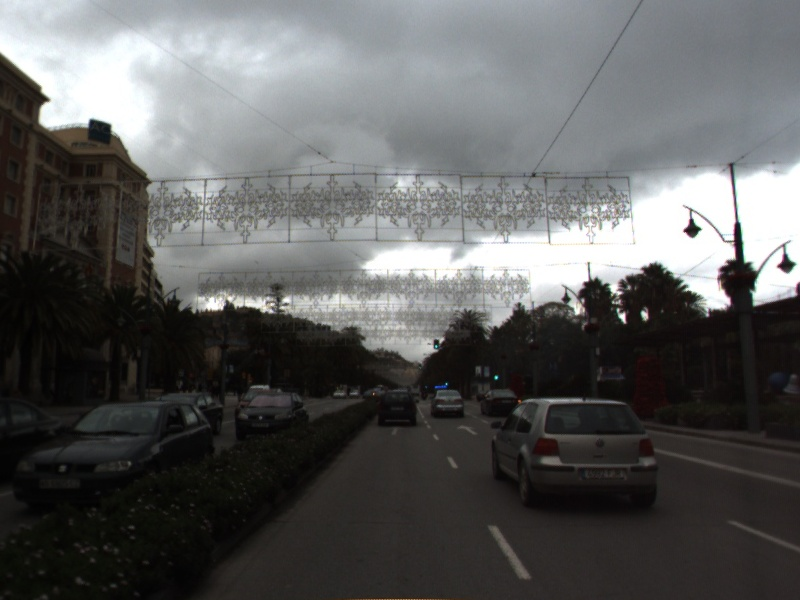STRAIGHT: (454, 422, 480, 437)
